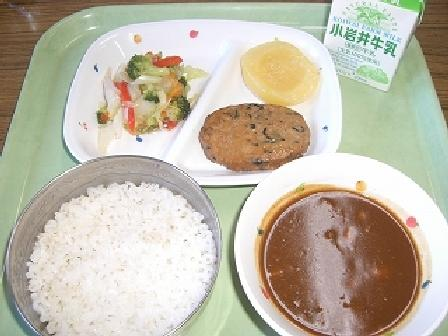Meat: (195, 102, 315, 167)
Milk: (323, 0, 430, 84)
Rice: (4, 156, 220, 335)
Salad: (80, 41, 191, 141)
peach: (242, 35, 318, 101)
soup-plain: (234, 160, 444, 335)
